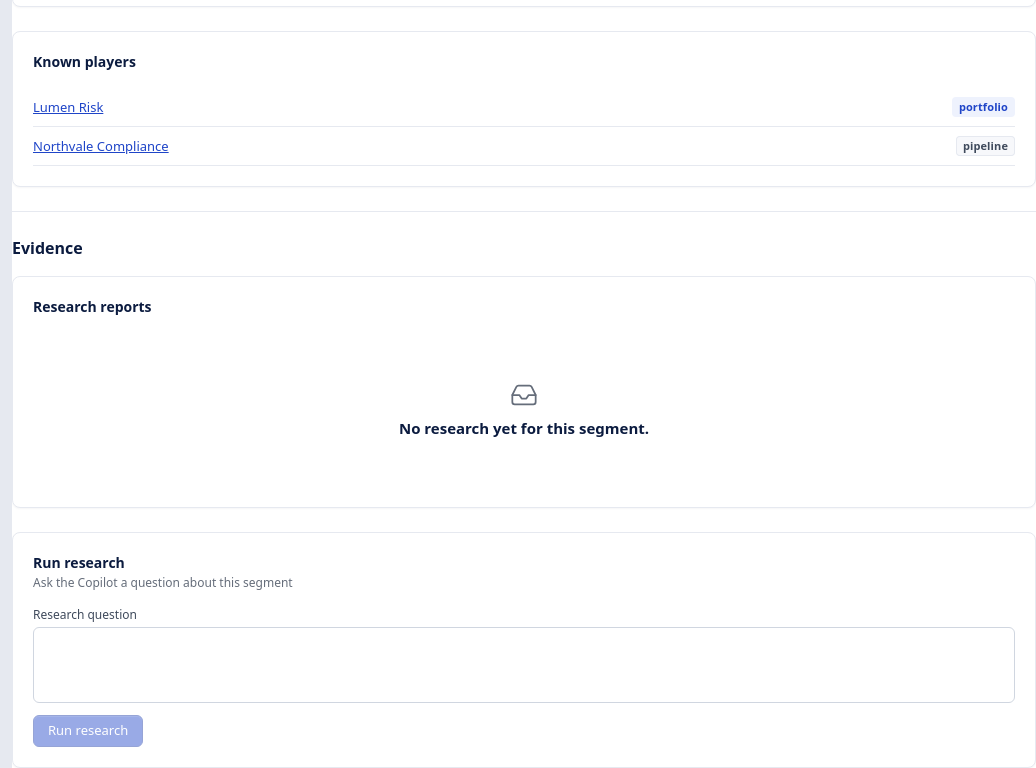
Scenario: SegmentView (6.10) › starts research for this segment from the evidence section
The image size is (1036, 768).
(page scrolled)
expect the element "Evidence" shows "No research yet": met, box [399, 418, 649, 438]
Type "How fast is KYC outsourcing growing?" into the text box labelled "Research question".
click(524, 665); type("How fast is KYC outsourcing growing?")  # box [33, 627, 1015, 703]
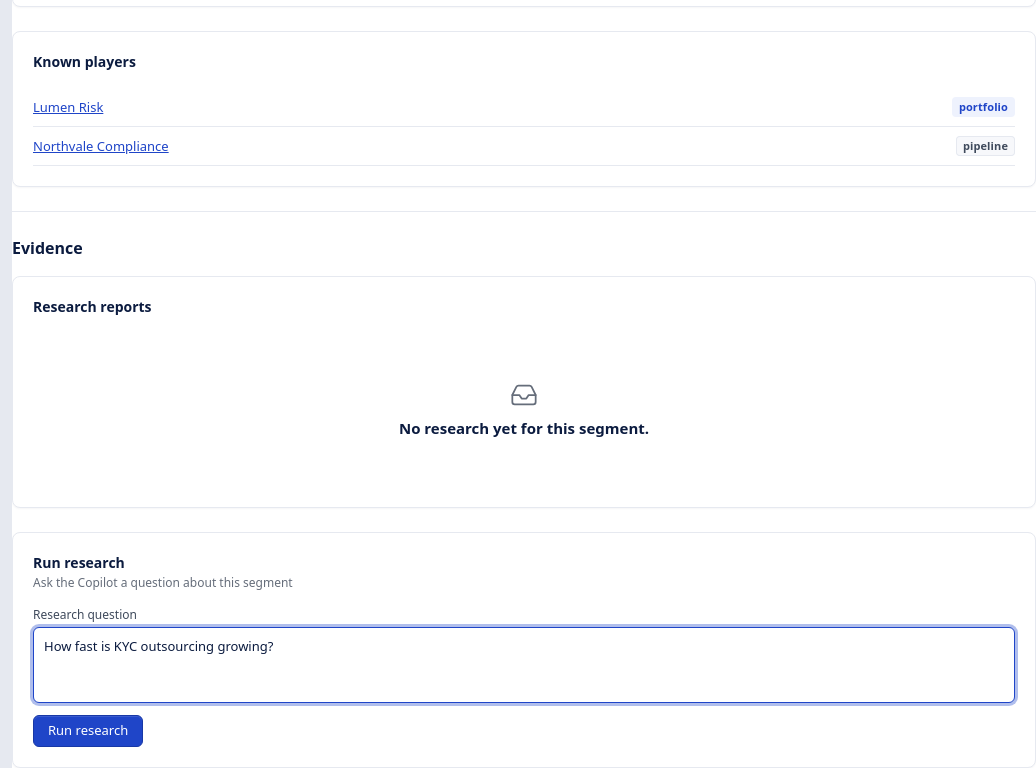
Click the button "Run research".
click(88, 731)  # box [33, 715, 143, 747]
(page scrolled)
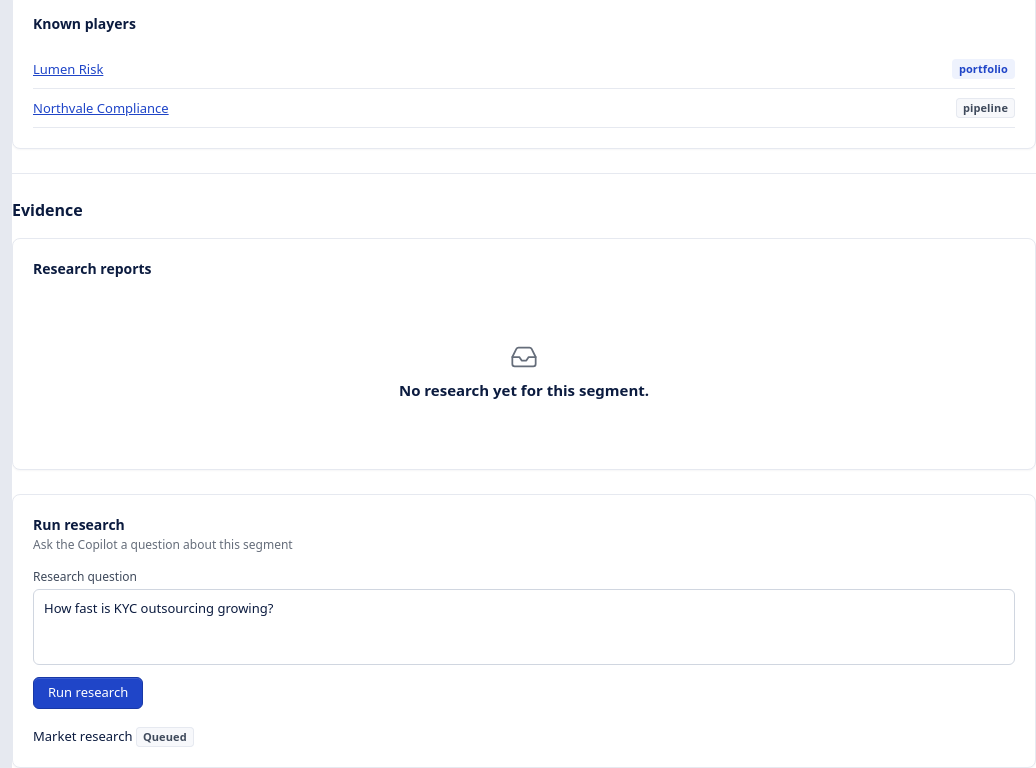
expect the text "Queued" is shown: met, box [136, 727, 194, 747]
